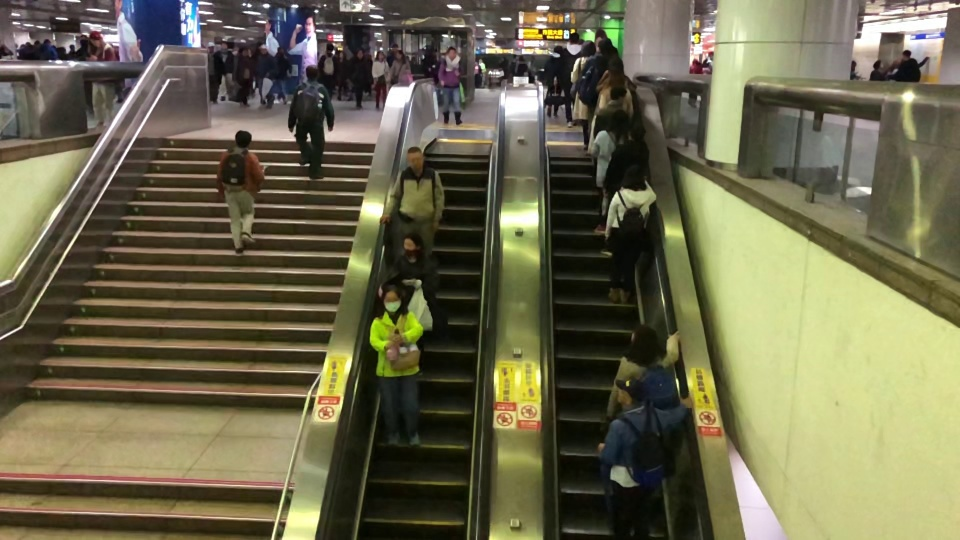person_head: (613, 376, 647, 411), (629, 323, 657, 360), (379, 282, 404, 314), (620, 163, 646, 190), (607, 108, 631, 137), (402, 231, 424, 255), (406, 145, 425, 170), (577, 38, 597, 58), (608, 69, 627, 90), (233, 129, 252, 148), (88, 29, 106, 48), (627, 122, 646, 140), (597, 37, 614, 57), (609, 86, 627, 103), (606, 58, 624, 74), (305, 63, 320, 81), (568, 30, 580, 45), (446, 46, 457, 59), (553, 44, 564, 56), (873, 59, 884, 70), (375, 48, 385, 60), (902, 49, 913, 59), (206, 41, 215, 53), (395, 48, 404, 60), (326, 41, 334, 54), (258, 44, 268, 54), (355, 48, 364, 59), (390, 43, 399, 53), (220, 40, 228, 49)
person_vbox: (595, 375, 695, 540), (369, 282, 424, 449), (377, 145, 445, 269), (384, 233, 439, 377), (603, 164, 657, 303), (604, 323, 681, 419), (600, 121, 650, 256), (584, 70, 635, 193), (216, 129, 264, 254), (575, 37, 624, 156), (287, 64, 335, 180), (589, 108, 631, 233), (587, 56, 638, 142), (591, 86, 633, 171), (85, 30, 119, 130), (569, 39, 599, 150), (555, 32, 583, 128), (438, 45, 463, 126), (252, 43, 278, 109), (543, 44, 564, 118), (886, 48, 930, 83), (212, 40, 235, 104), (348, 47, 369, 110), (317, 43, 337, 104), (371, 49, 390, 110), (387, 50, 411, 84), (205, 40, 215, 103), (869, 59, 890, 80), (385, 42, 401, 67)
